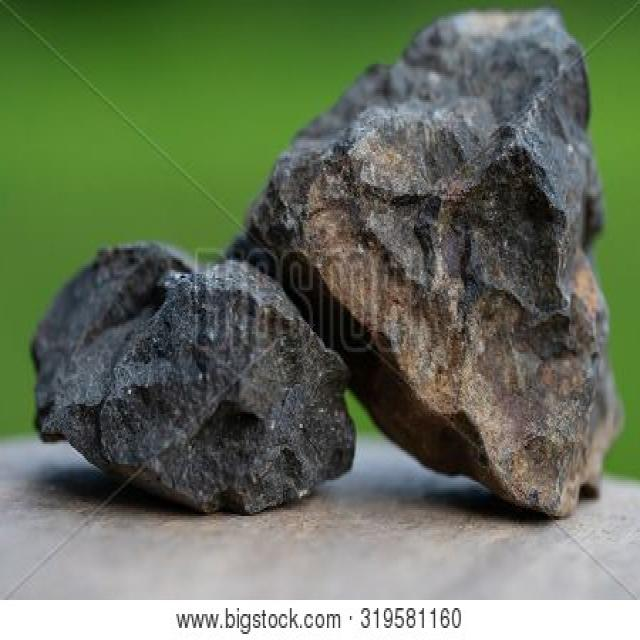Igneous: (14, 12, 624, 534)
